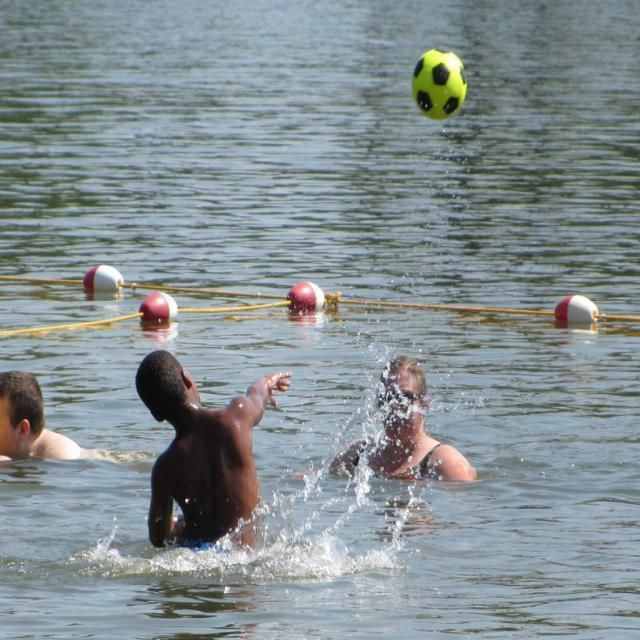football: (404, 40, 484, 116)
